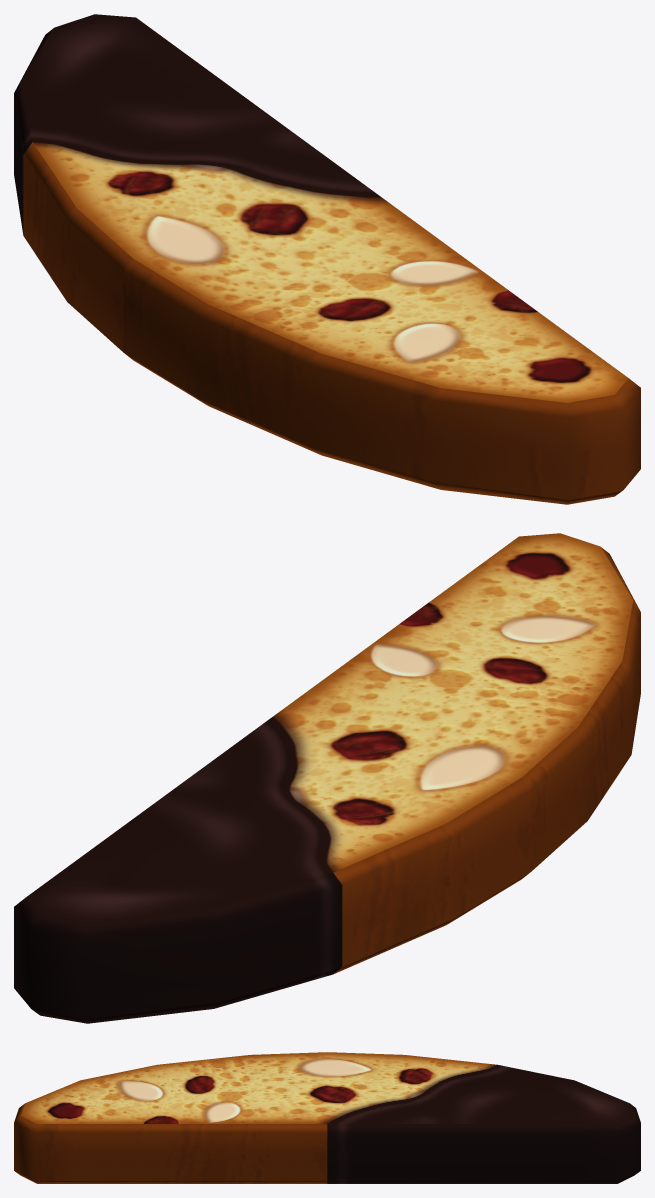
The model's file is Biscotti_03.fbx.
3 renders of one model, top to bottom at view 1: azimuth 30°, elevation 25°; view 2: azimuth 150°, elevation 25°; view 3: azimuth 270°, elevation 25°, orthographic. The views are drawn at different scales.
Visible parts, largest first — view 1: Biscotti_03; view 2: Biscotti_03; view 3: Biscotti_03.
Part boxes in pixels (<box>): Biscotti_03: <box>14,14,640,504</box>; Biscotti_03: <box>14,533,640,1023</box>; Biscotti_03: <box>14,1052,640,1183</box>.
Bounding box in the file's own units: 17.96 × 6.5 × 61.57.
